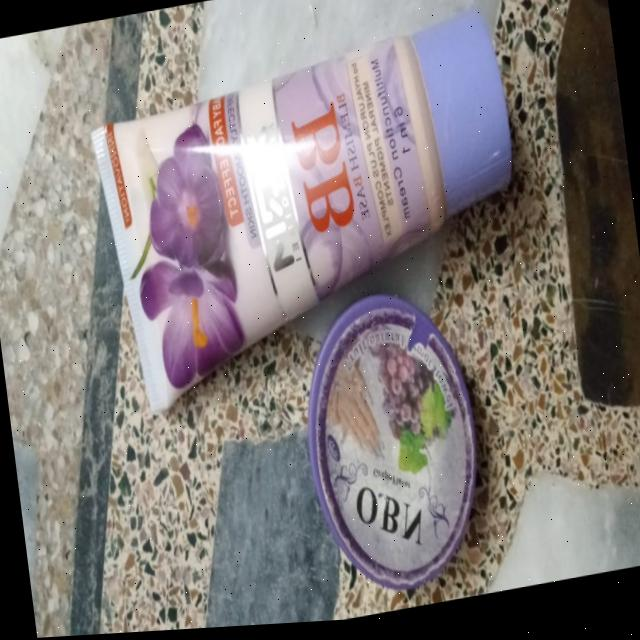bb cream: (75, 0, 540, 424)
nail polish remover: (282, 275, 504, 627)
